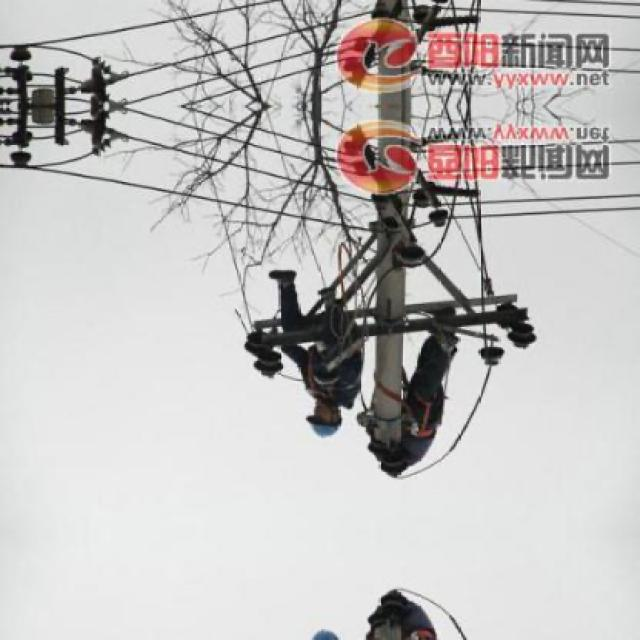con casco: (264, 383, 343, 460)
